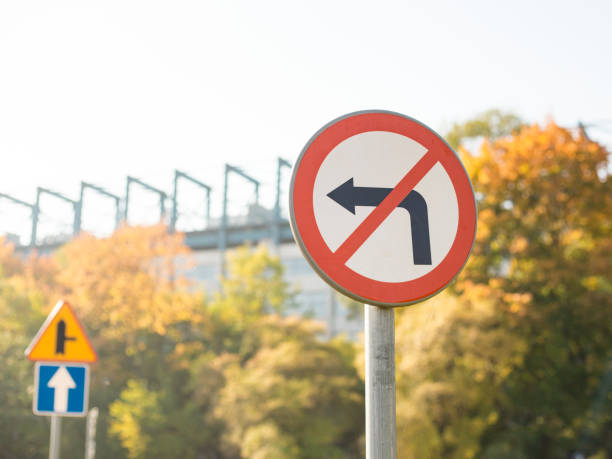sola_girilmez: (282, 107, 477, 305)
